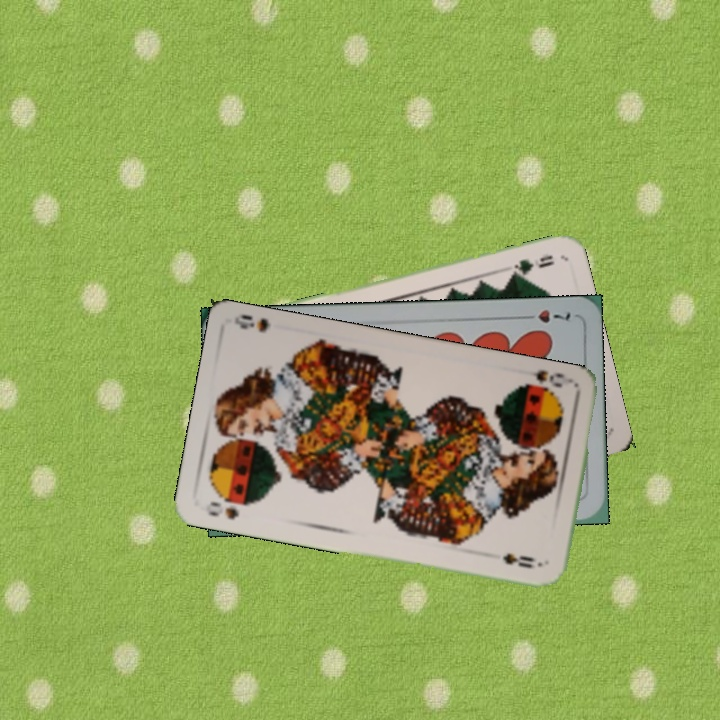G9: (504, 251, 558, 281)
H7: (516, 306, 573, 326)
SO: (516, 366, 577, 395), (204, 497, 241, 522)
